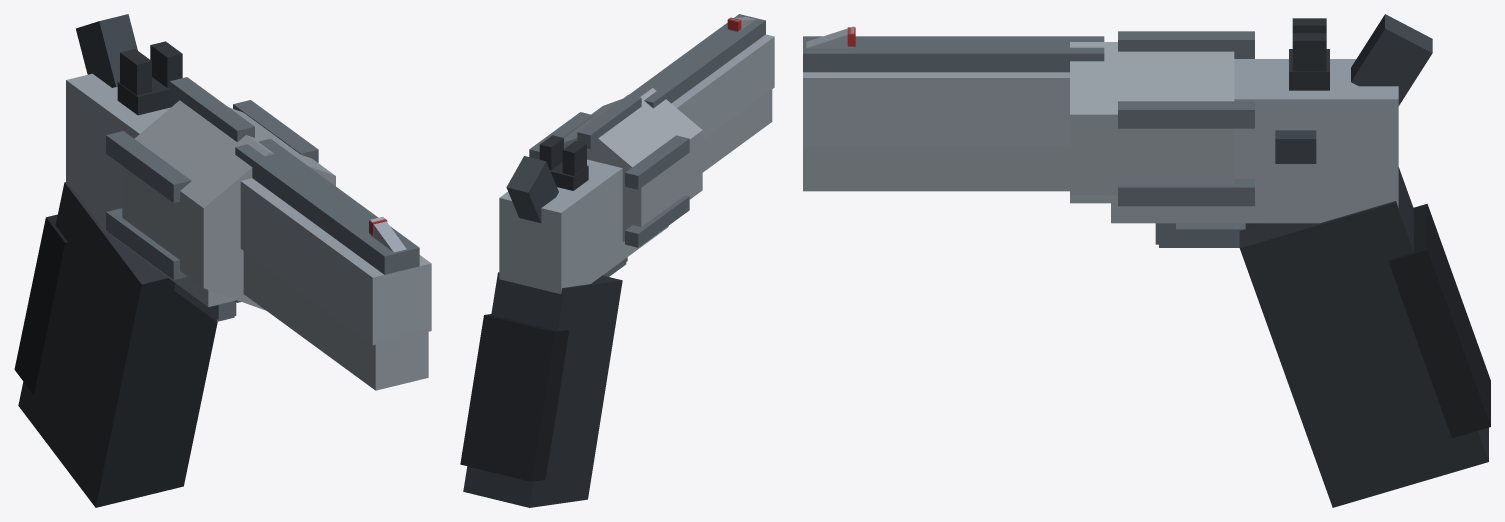
File: wpn_revolver.fbx
3 views of the same model, side by side, from view 1: azimuth 30°, elevation 25°; view 2: azimuth 150°, elevation 25°; view 3: azimuth 270°, elevation 25° (orthographic). The views are drawn at different scales.
Visible parts, largest first — view 1: wpn_revolver; view 2: wpn_revolver; view 3: wpn_revolver.
Part boxes in pixels (bbox=[...]): wpn_revolver: bbox=[14, 14, 431, 507]; wpn_revolver: bbox=[460, 14, 774, 507]; wpn_revolver: bbox=[803, 14, 1490, 507].
Size of the model in its own units: 24.65 by 74.96 by 100.
